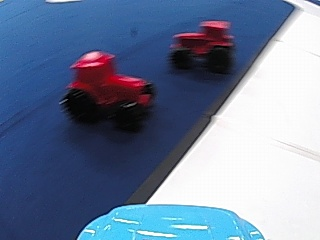Tracktor: (58, 49, 164, 128), (169, 16, 235, 71)
